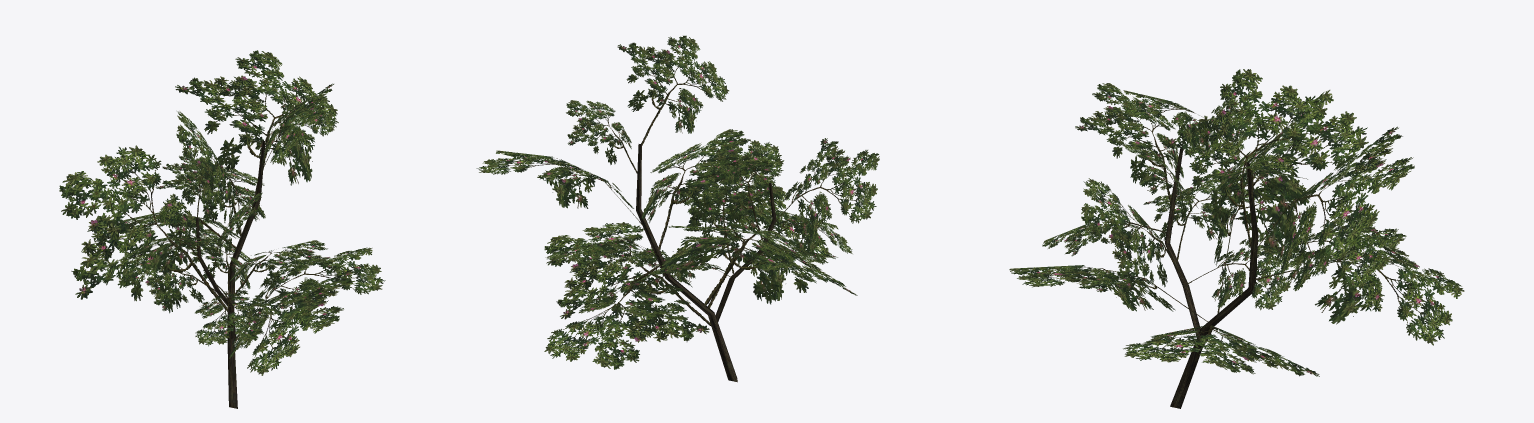
File: c_swamp_tree06.glb
3 views of the same model, side by side, from view 1: azimuth 30°, elevation 25°; view 2: azimuth 150°, elevation 25°; view 3: azimuth 270°, elevation 25° (orthographic). The views are drawn at different scales.
Parts seen in each view (by area): view 1: C_swamp_tree_06_01, C_swamp_tree_06_02; view 2: C_swamp_tree_06_01, C_swamp_tree_06_02; view 3: C_swamp_tree_06_01, C_swamp_tree_06_02.
Boxes of the visible parts, x1,y1,x2,y2 form: C_swamp_tree_06_01: (59, 50, 385, 375); C_swamp_tree_06_02: (196, 140, 265, 408); C_swamp_tree_06_01: (476, 35, 879, 369); C_swamp_tree_06_02: (636, 144, 776, 382); C_swamp_tree_06_01: (1009, 69, 1464, 376); C_swamp_tree_06_02: (1165, 148, 1258, 408).
Bounding box in the file's own units: 13.64 × 11.12 × 15.83.
Materials: 2 (2 with a texture image).
